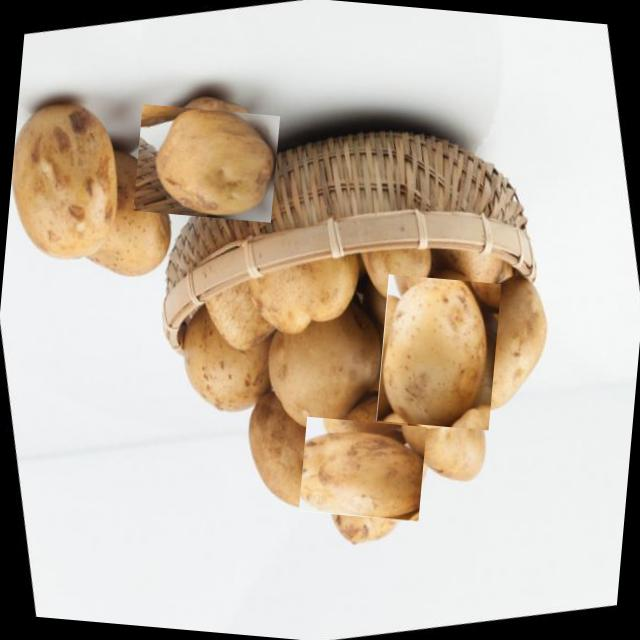potato: (375, 274, 501, 432), (139, 97, 273, 230), (304, 410, 420, 527)
